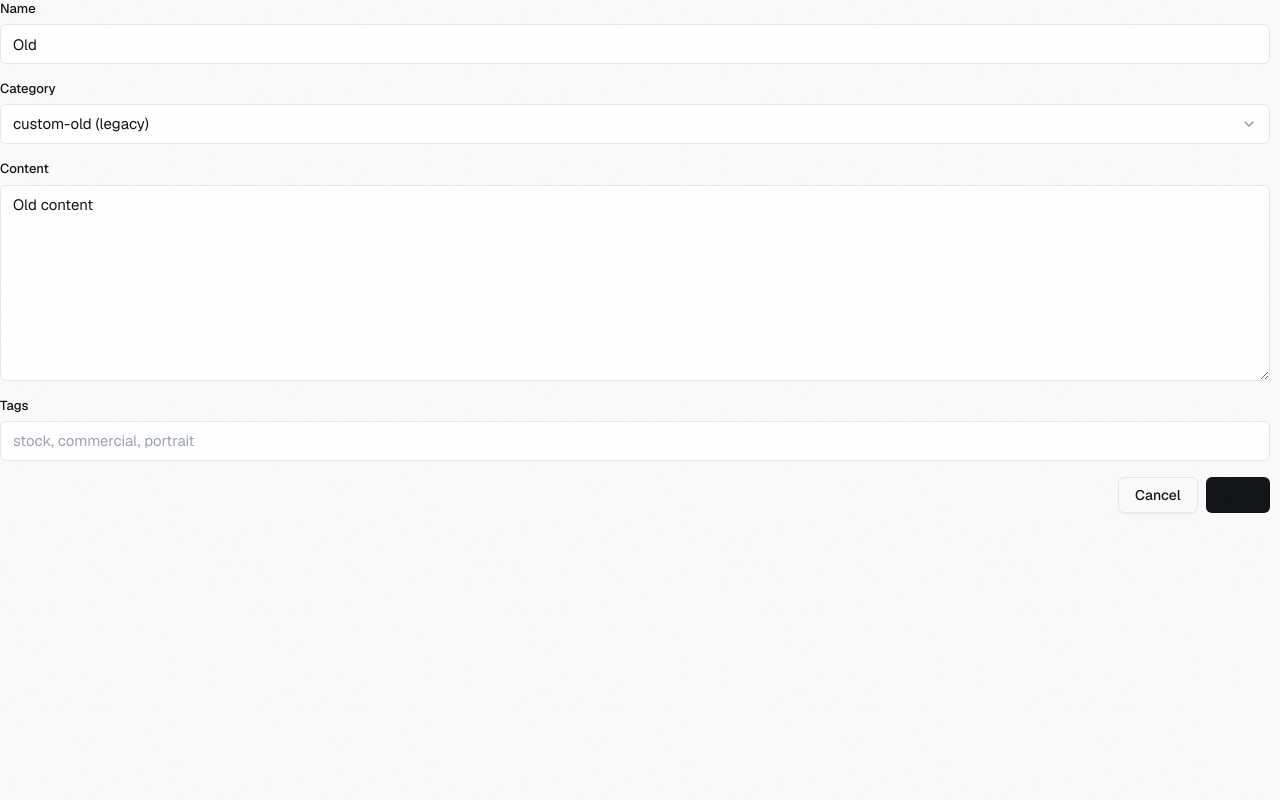
it: TemplateForm › keeps an unknown initial category available as an explicit legacy option
Click the button named "Category" at (81, 124), box x1=0 y1=104 x2=1270 y2=144
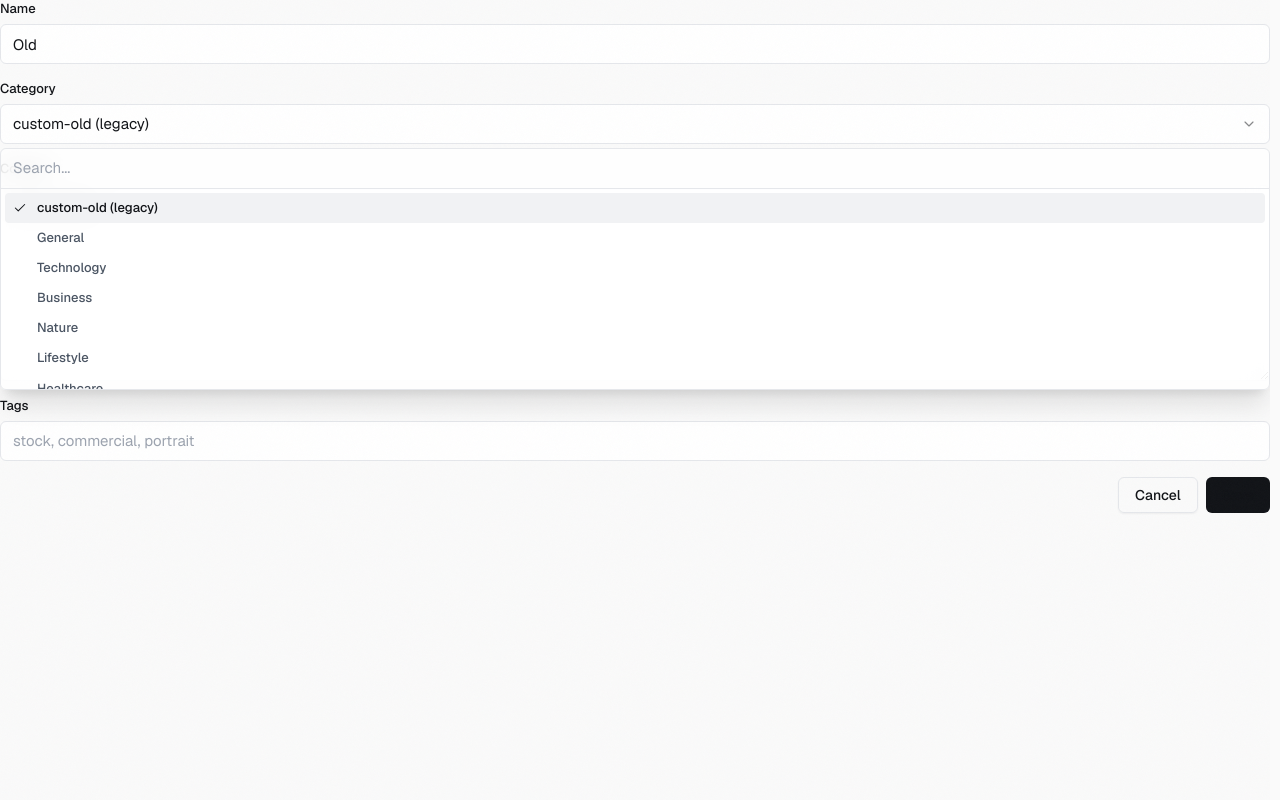
Type "legacy" into the dropdown at (635, 169), box x1=1 y1=149 x2=1269 y2=188
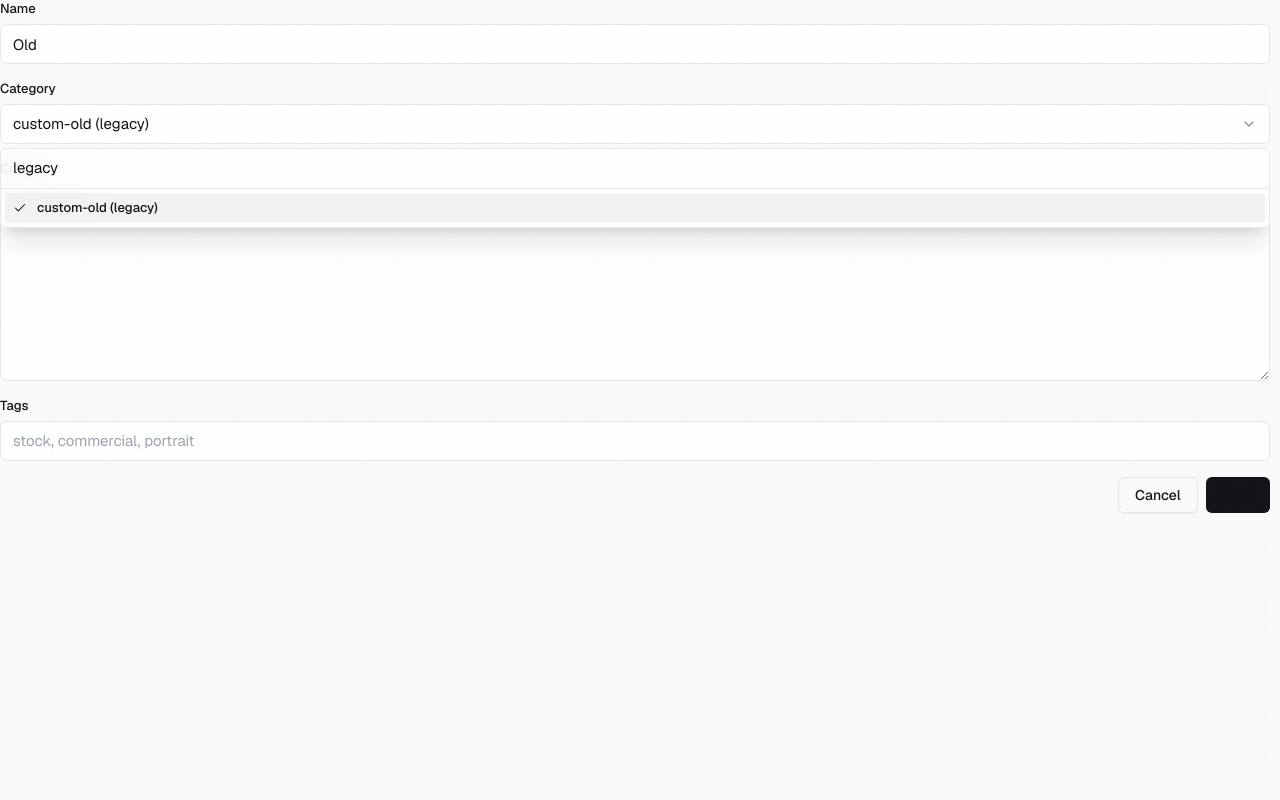
Result: the option "custom-old (legacy)" is shown at x1=5 y1=192 x2=1265 y2=223
Result: the option "General" is gone
